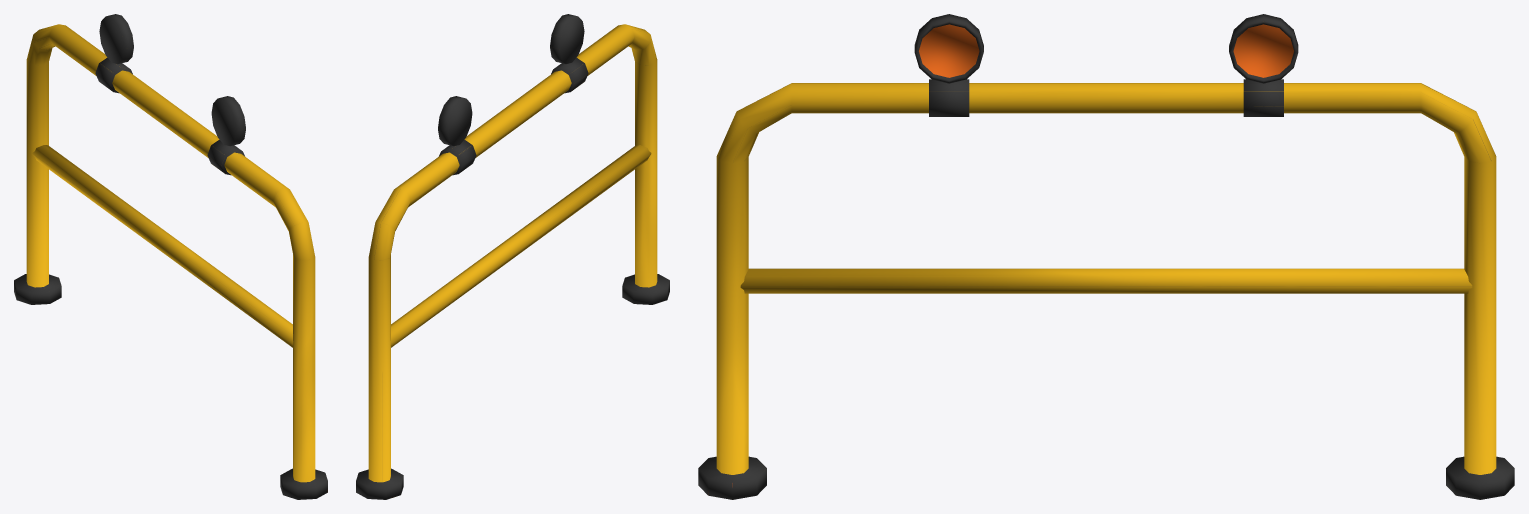
The model's file is pipefence_1.fbx.
3 views of the same model, side by side, from view 1: azimuth 30°, elevation 25°; view 2: azimuth 150°, elevation 25°; view 3: azimuth 270°, elevation 25° (orthographic). The views are drawn at different scales.
Visible parts, largest first — view 1: pipefence1; view 2: pipefence1; view 3: pipefence1.
Boxes of the visible parts, x1,y1,x2,y2 form: pipefence1: [14, 14, 327, 499]; pipefence1: [356, 14, 669, 499]; pipefence1: [698, 14, 1514, 499].
Bounding box in the file's own units: 33.07 × 249 × 393.
